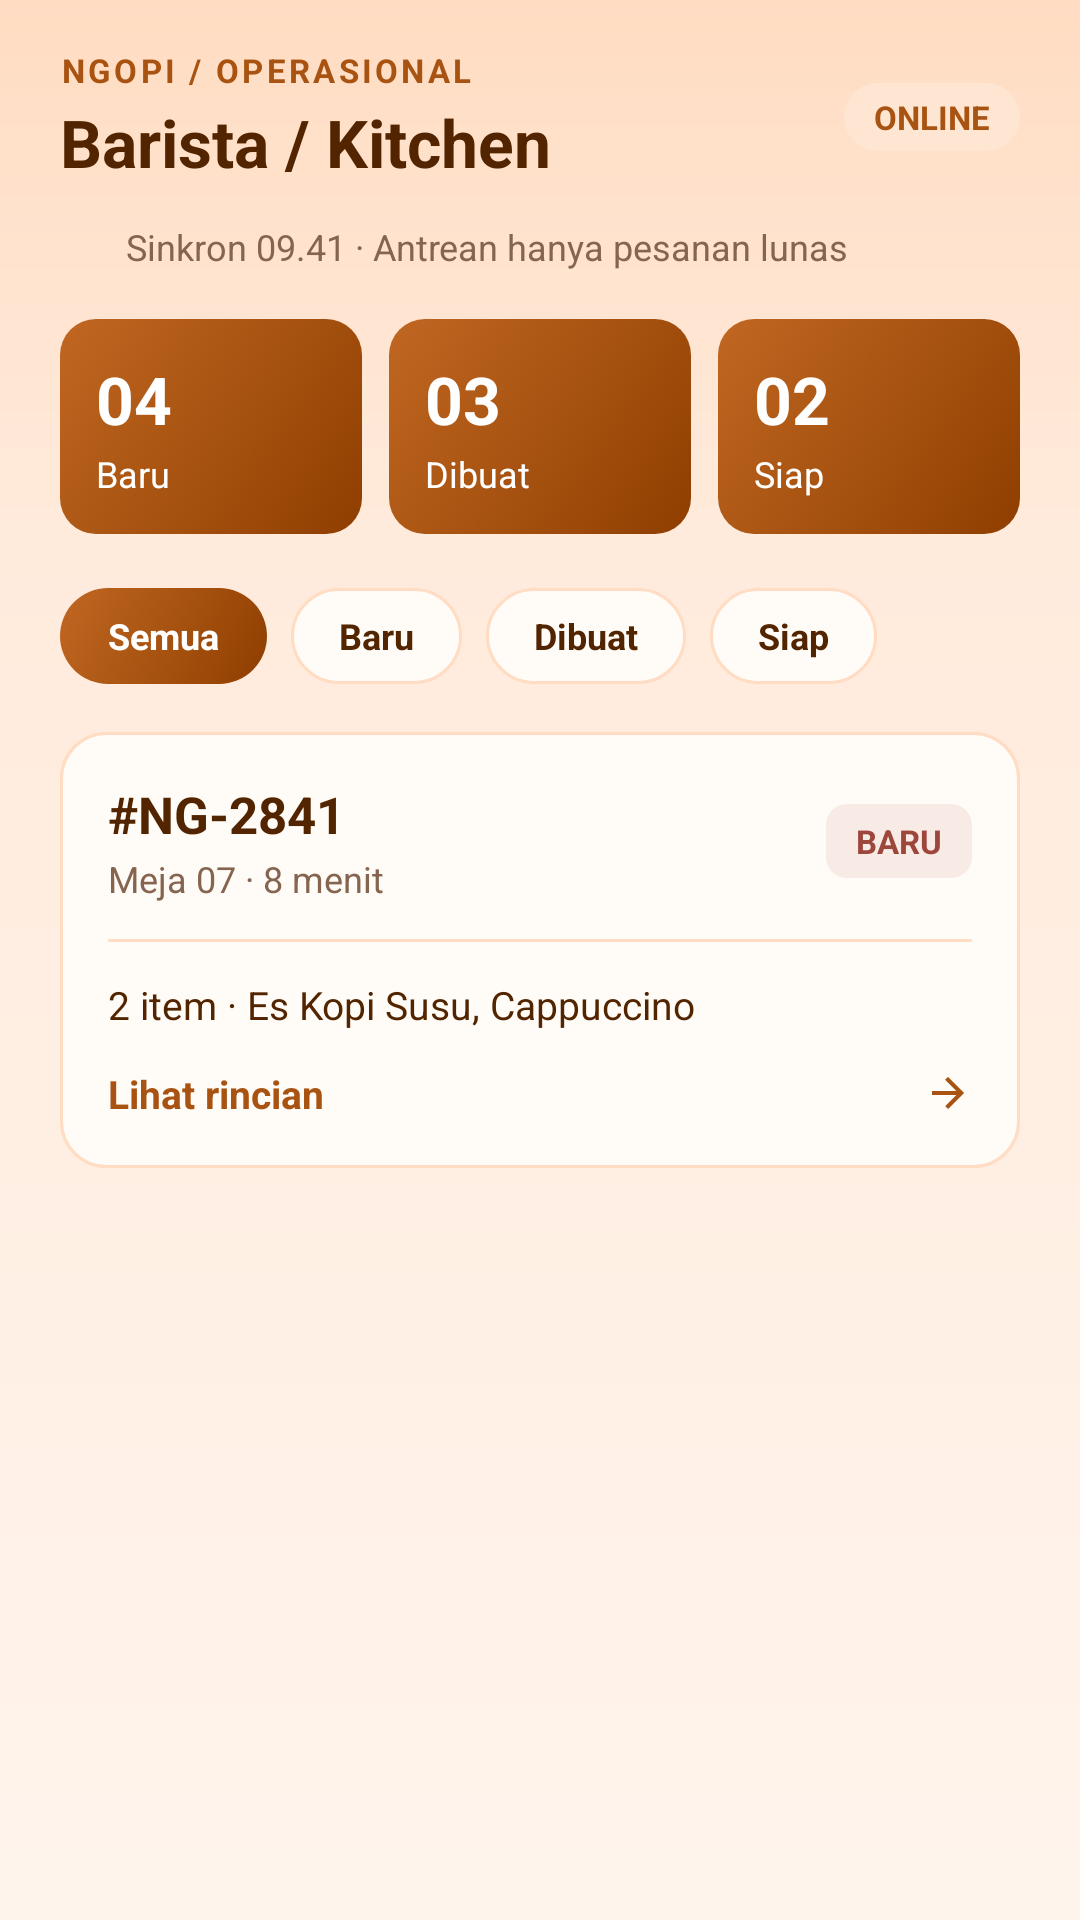

Icons on this 1080 × 1920 Android screen, each with its box as (x1=x1, y1=y1, x2=x2, y2=y2):
arrow forward: (x1=932, y1=1077, x2=964, y2=1109)
